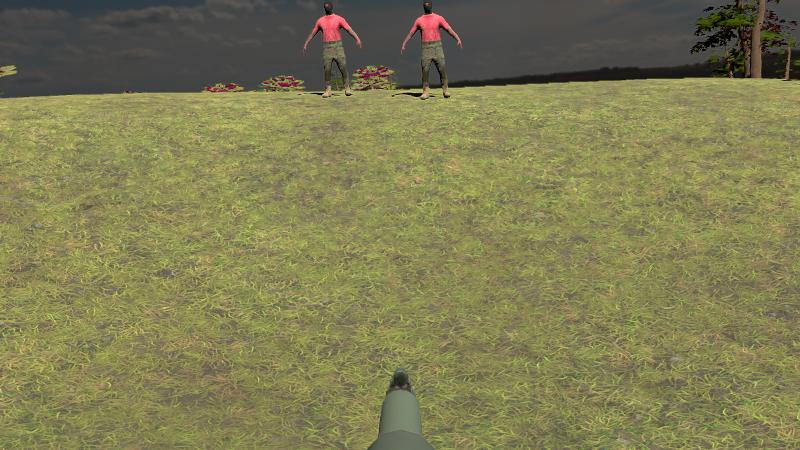Human: (401, 1, 462, 99), (303, 2, 361, 98)
